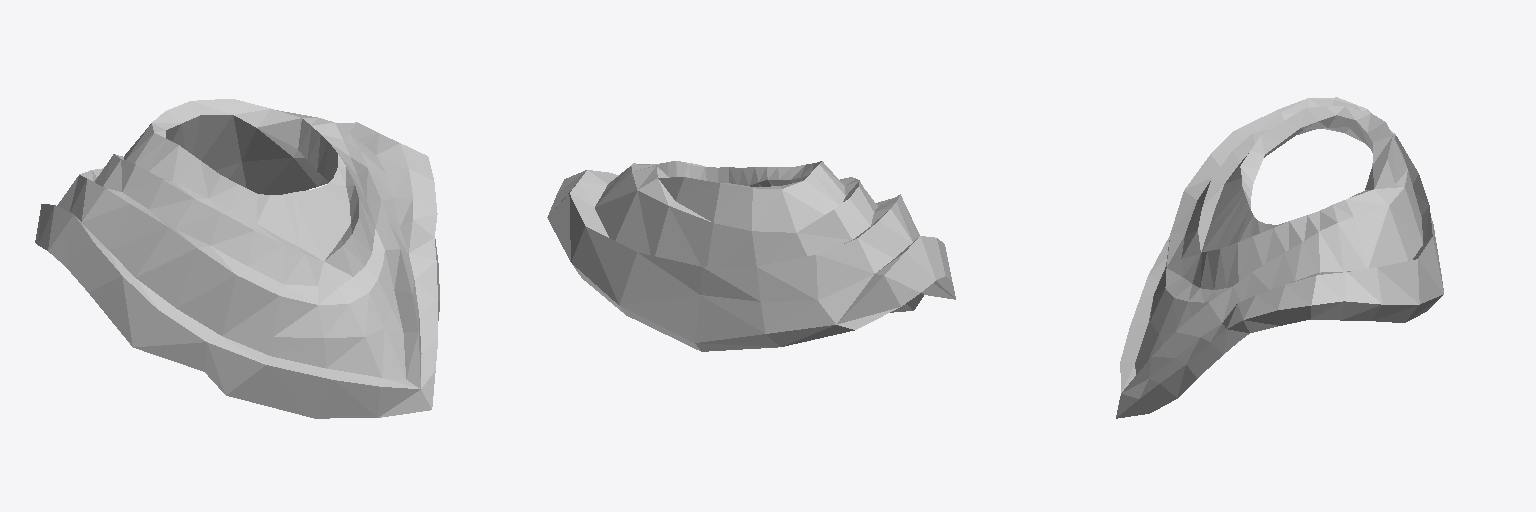
The model's file is neck.obj.
3 views of the same model, side by side, from view 1: azimuth 30°, elevation 25°; view 2: azimuth 150°, elevation 25°; view 3: azimuth 270°, elevation 25° (orthographic).
Parts seen in each view (by area): view 1: Scarf_mtr_G11_V100.046; view 2: Scarf_mtr_G11_V100.046; view 3: Scarf_mtr_G11_V100.046.
Boxes of the visible parts, x1,y1,x2,y2 form: Scarf_mtr_G11_V100.046: [35, 99, 439, 418]; Scarf_mtr_G11_V100.046: [547, 161, 955, 351]; Scarf_mtr_G11_V100.046: [1116, 97, 1443, 418].
Size of the model in its own units: 0.1728 by 0.1026 by 0.1308.